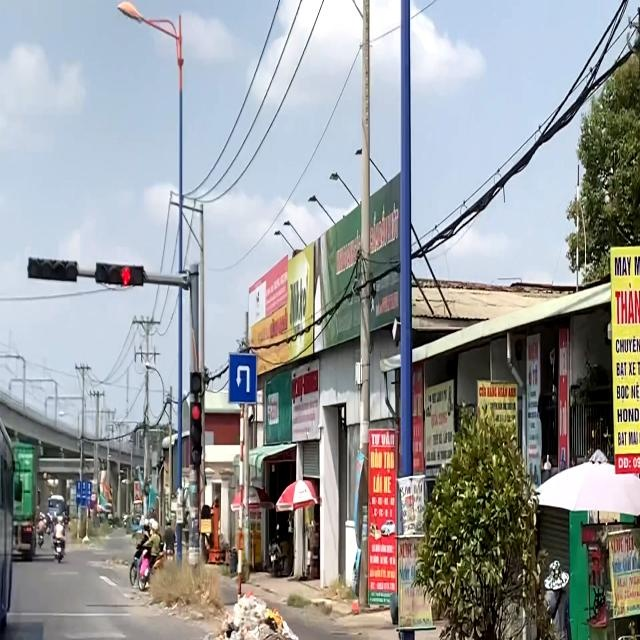bien_chi_dan: (230, 355, 258, 404)
